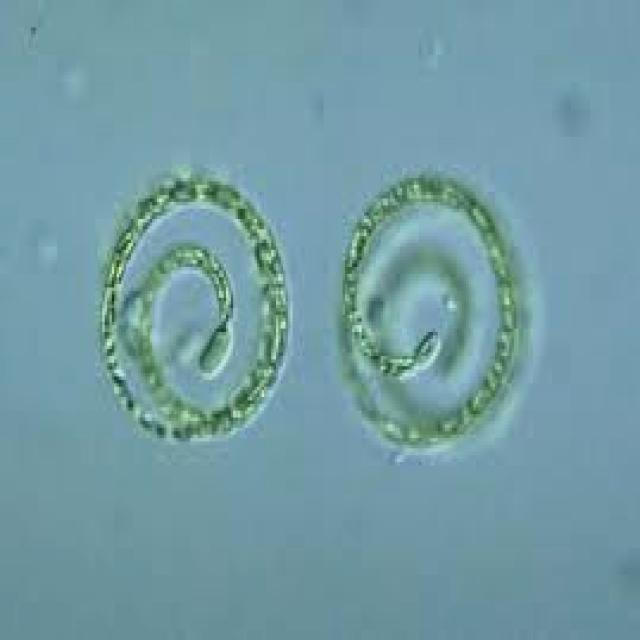Blue Green Algae: (252, 229, 283, 274), (236, 195, 266, 240), (414, 328, 440, 369), (378, 349, 414, 377), (467, 380, 492, 414), (98, 288, 119, 328), (114, 222, 138, 256), (468, 198, 492, 232), (500, 281, 516, 325), (105, 257, 126, 284), (271, 281, 290, 308), (495, 332, 514, 359)
